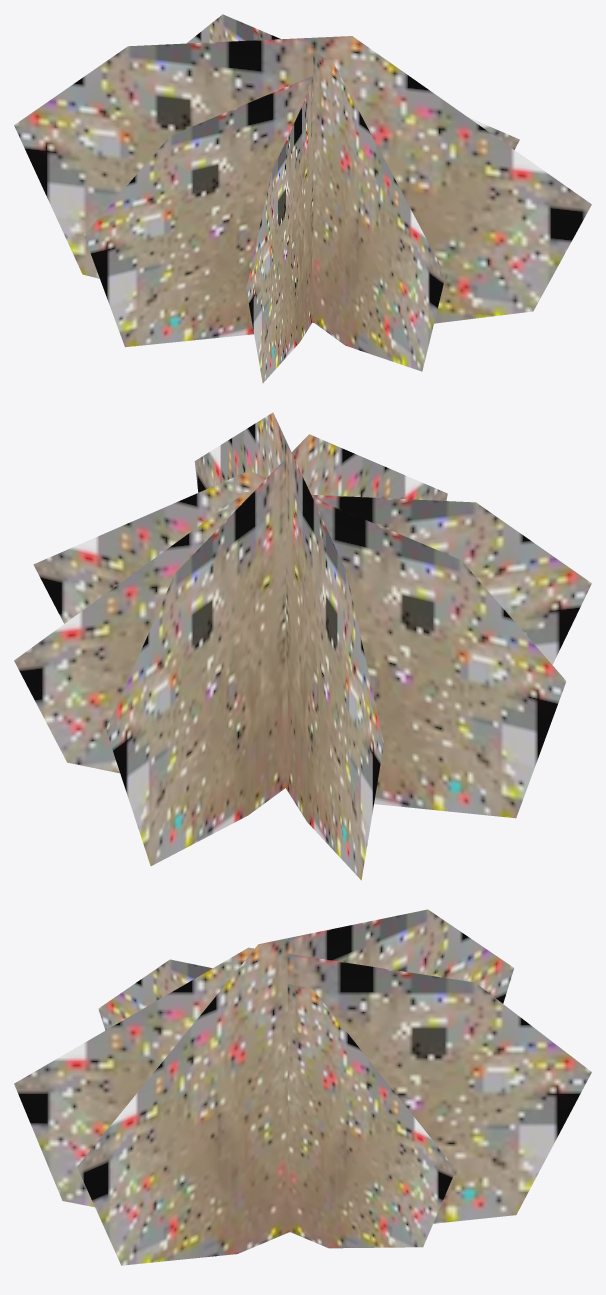
File: arid_grass_b.glb
3 renders of one model, top to bottom at view 1: azimuth 30°, elevation 25°; view 2: azimuth 150°, elevation 25°; view 3: azimuth 270°, elevation 25°, orthographic. The views are drawn at different scales.
Visible parts, largest first — view 1: desert_grass_a; view 2: desert_grass_a; view 3: desert_grass_a.
Part boxes in pixels (x1,y1,x2,y2): desert_grass_a: (14,14,591,383); desert_grass_a: (14,412,591,880); desert_grass_a: (14,909,591,1265).
Size of the model in its own units: 0.9066 by 0.5789 by 1.01.
1 material, 1 textured.
